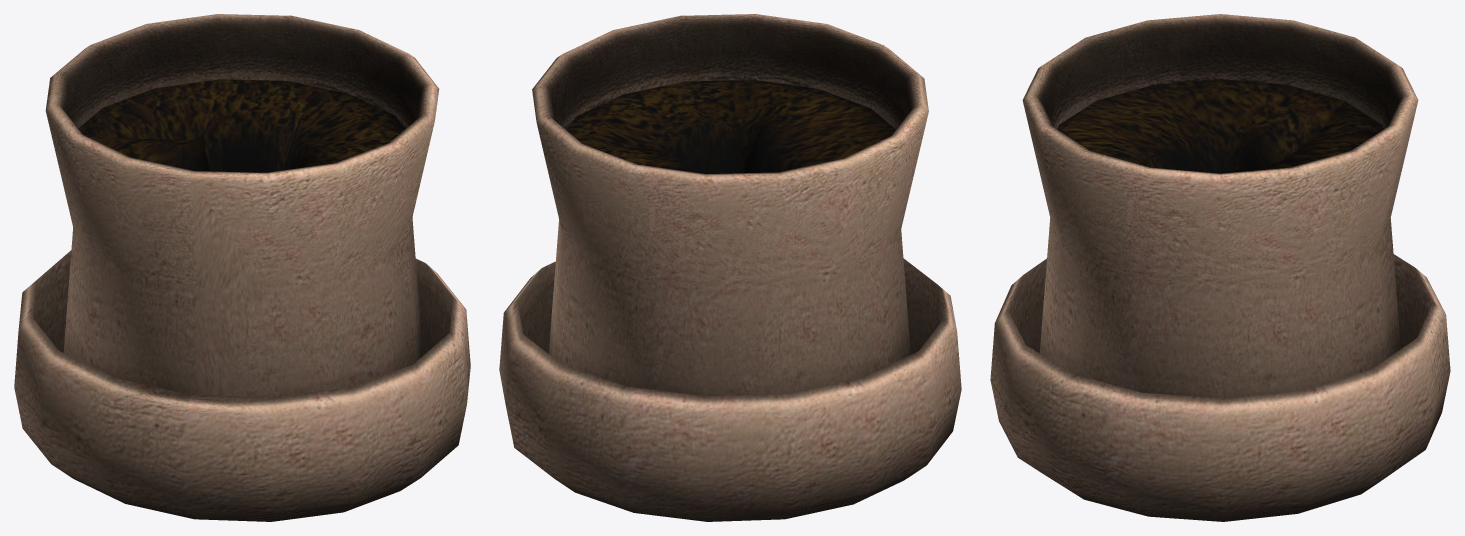
File: Pot.obj
3 renders of one model, left to right at view 1: azimuth 30°, elevation 25°; view 2: azimuth 150°, elevation 25°; view 3: azimuth 270°, elevation 25°, orthographic.
Parts seen in each view (by area): view 1: Low-Poly_Plant__Cube.055; view 2: Low-Poly_Plant__Cube.055; view 3: Low-Poly_Plant__Cube.055.
Boxes of the visible parts, <box> form: Low-Poly_Plant__Cube.055: <box>14,14,470,521</box>; Low-Poly_Plant__Cube.055: <box>499,14,961,521</box>; Low-Poly_Plant__Cube.055: <box>990,14,1450,521</box>.
Size of the model in its own units: 0.4561 by 0.387 by 0.4561.
1 material, 1 textured.
